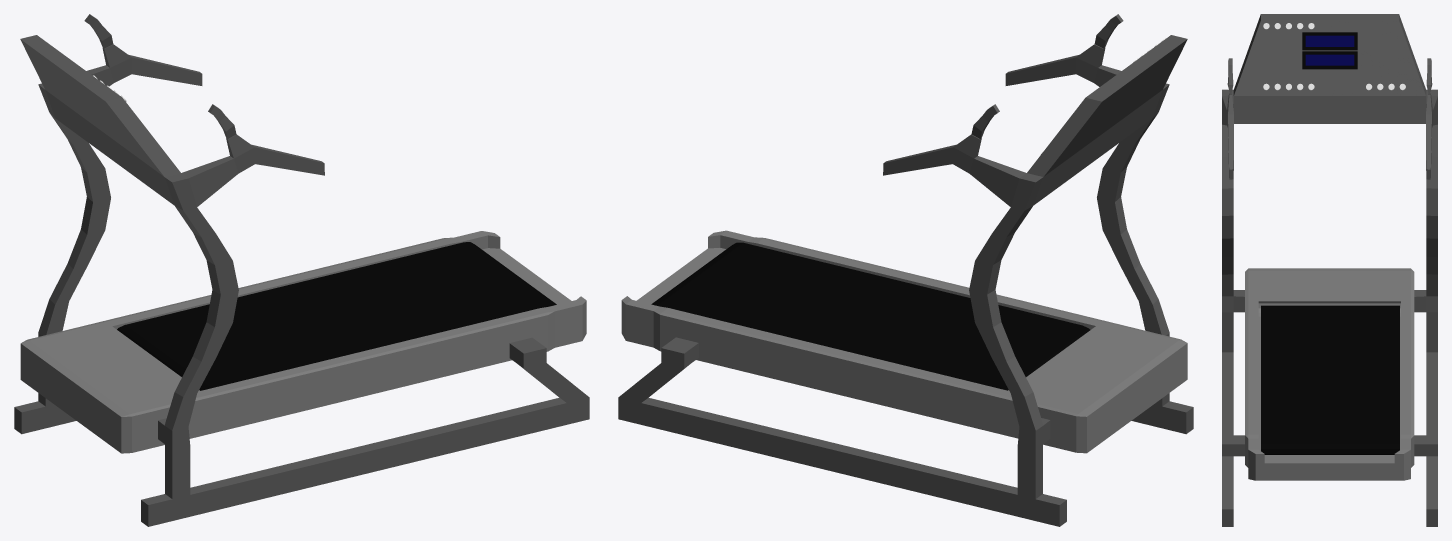
Rendered from TreadMill.fbx.
The picture shows the model from 3 angles, left to right: view 1: azimuth 30°, elevation 25°; view 2: azimuth 150°, elevation 25°; view 3: azimuth 270°, elevation 25°; orthographic projection. The views are drawn at different scales.
Visible parts, largest first — view 1: Treadmill; view 2: Treadmill; view 3: Treadmill.
Boxes of the visible parts, x1,y1,x2,y2 form: Treadmill: [14, 14, 589, 526]; Treadmill: [618, 14, 1193, 526]; Treadmill: [1222, 14, 1437, 526].
Bounding box in the file's own units: 226 × 186 × 110.
